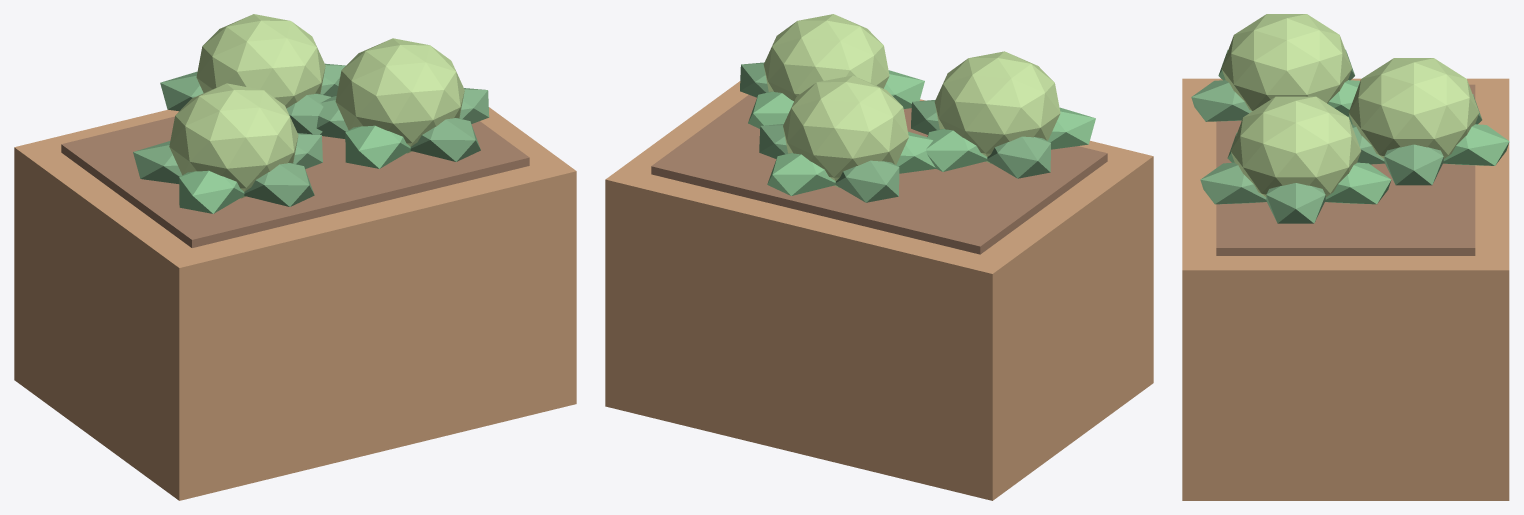
Rendered from item_harvest_crate.glb.
The picture shows the model from 3 angles, left to right: view 1: azimuth 30°, elevation 25°; view 2: azimuth 150°, elevation 25°; view 3: azimuth 270°, elevation 25°; orthographic projection. The views are drawn at different scales.
Visible parts, largest first — view 1: wood harvest crate, dark inside, pale cabbage heart.011, pale cabbage heart.012, pale cabbage heart.013, faceted outer leaf.063, faceted outer leaf.058, faceted outer leaf.064, faceted outer leaf.059, faceted outer leaf.057, faceted outer leaf.069, faceted outer leaf.067 (+3 smaller); view 2: wood harvest crate, dark inside, pale cabbage heart.011, pale cabbage heart.013, pale cabbage heart.012, faceted outer leaf.067, faceted outer leaf.057, faceted outer leaf.066, faceted outer leaf.056, faceted outer leaf.058, faceted outer leaf.061, faceted outer leaf.068 (+4 smaller); view 3: wood harvest crate, dark inside, pale cabbage heart.012, pale cabbage heart.013, pale cabbage heart.011, faceted outer leaf.065, faceted outer leaf.060, faceted outer leaf.061, faceted outer leaf.066, faceted outer leaf.064, faceted outer leaf.059, faceted outer leaf.056 (+1 smaller).
Part boxes in pixels (bbox=[...]): wood harvest crate: bbox=[14, 107, 576, 500]; dark inside: bbox=[61, 116, 529, 247]; pale cabbage heart.011: bbox=[169, 83, 298, 198]; pale cabbage heart.012: bbox=[335, 38, 464, 153]; pale cabbage heart.013: bbox=[196, 14, 325, 108]; faceted outer leaf.063: bbox=[345, 125, 410, 168]; faceted outer leaf.058: bbox=[179, 170, 244, 213]; faceted outer leaf.064: bbox=[410, 118, 480, 161]; faceted outer leaf.059: bbox=[244, 163, 314, 206]; faceted outer leaf.057: bbox=[133, 141, 182, 183]; faceted outer leaf.069: bbox=[286, 93, 330, 134]; faceted outer leaf.067: bbox=[160, 71, 203, 111]; wood harvest crate: bbox=[605, 81, 1153, 500]; dark inside: bbox=[651, 95, 1107, 254]; pale cabbage heart.011: bbox=[934, 51, 1060, 163]; pale cabbage heart.013: bbox=[783, 75, 908, 187]; pale cabbage heart.012: bbox=[763, 14, 889, 100]; faceted outer leaf.067: bbox=[835, 160, 899, 202]; faceted outer leaf.057: bbox=[987, 136, 1050, 178]; faceted outer leaf.066: bbox=[767, 153, 835, 195]; faceted outer leaf.056: bbox=[926, 129, 987, 171]; faceted outer leaf.058: bbox=[1048, 107, 1095, 149]; faceted outer leaf.061: bbox=[748, 91, 793, 128]; faceted outer leaf.068: bbox=[896, 131, 935, 173]; wood harvest crate: bbox=[1182, 78, 1509, 500]; dark inside: bbox=[1216, 84, 1475, 255]; pale cabbage heart.012: bbox=[1230, 96, 1361, 197]; pale cabbage heart.013: bbox=[1348, 58, 1479, 158]; pale cabbage heart.011: bbox=[1221, 14, 1351, 111]; faceted outer leaf.065: bbox=[1384, 144, 1443, 185]; faceted outer leaf.060: bbox=[1266, 183, 1325, 223]; faceted outer leaf.061: bbox=[1325, 162, 1391, 204]; faceted outer leaf.066: bbox=[1443, 124, 1509, 165]; faceted outer leaf.064: bbox=[1200, 162, 1266, 204]; faceted outer leaf.059: bbox=[1191, 80, 1251, 121]; faceted outer leaf.056: bbox=[1328, 80, 1359, 115].
Bounding box in the file's own units: 1 × 0.8324 × 0.7205.
